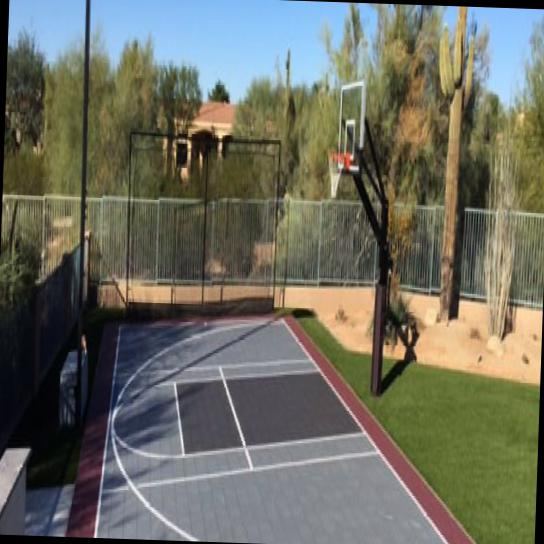basketball-hoop: (325, 147, 346, 204)
